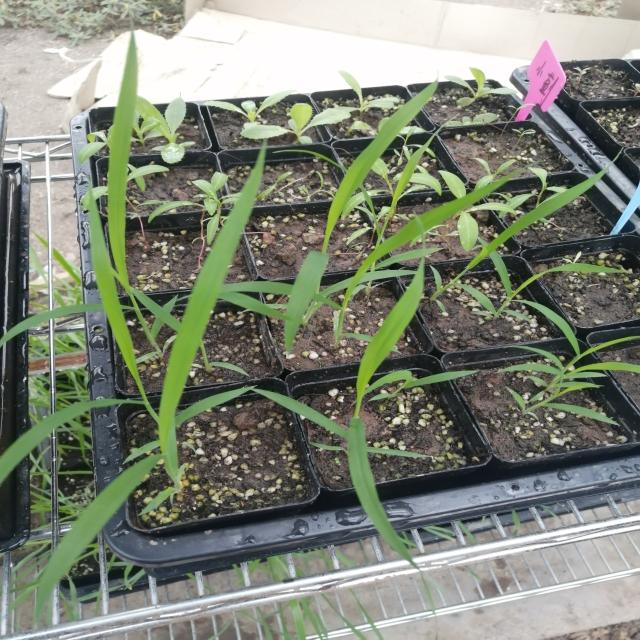crabgrass: (0, 135, 342, 560), (238, 262, 504, 509), (486, 338, 634, 422)
